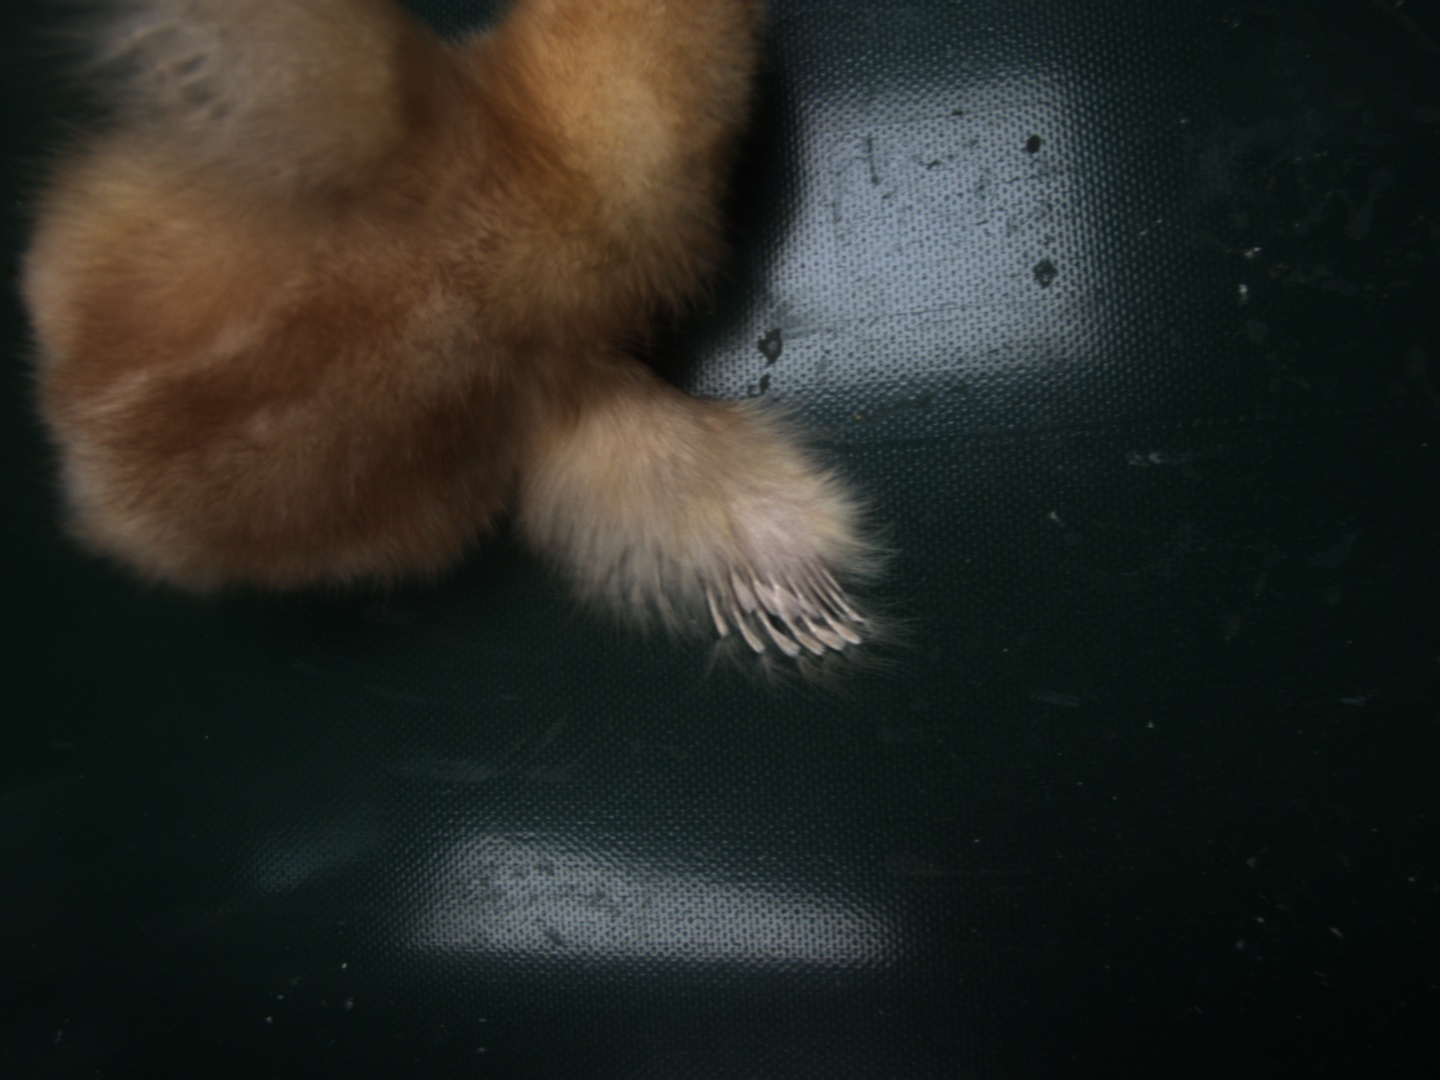female: (696, 554, 874, 670)
